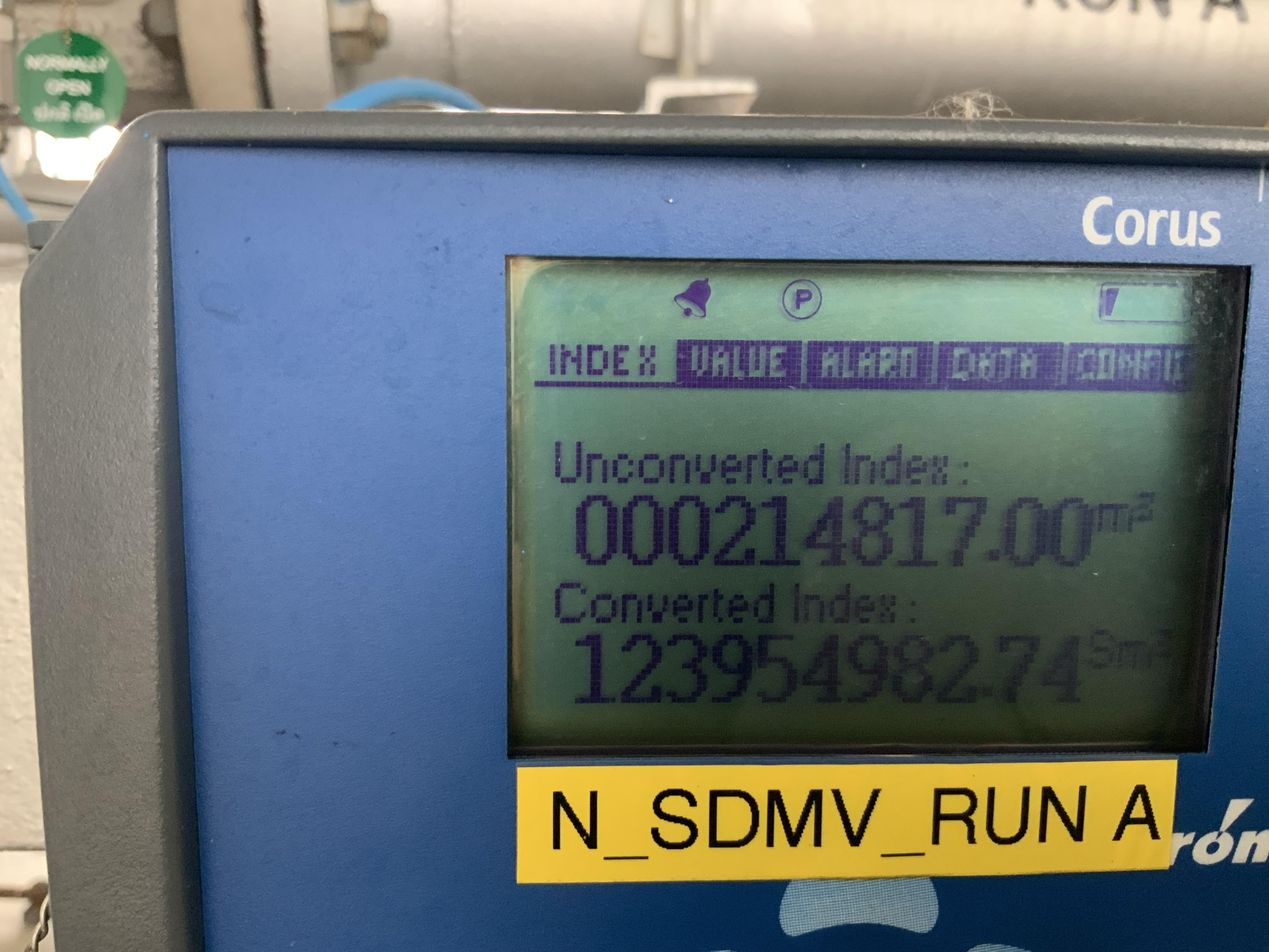digital_screen: (509, 257, 1253, 758)
